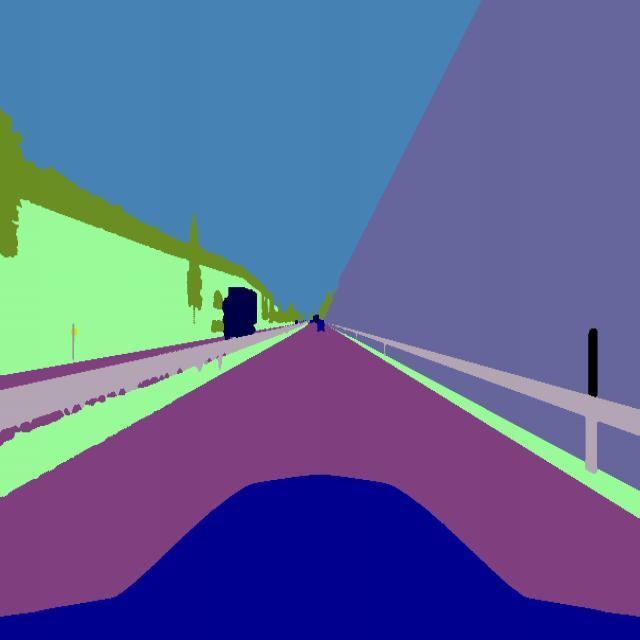safe: (220, 283, 258, 342), (312, 313, 328, 337)
